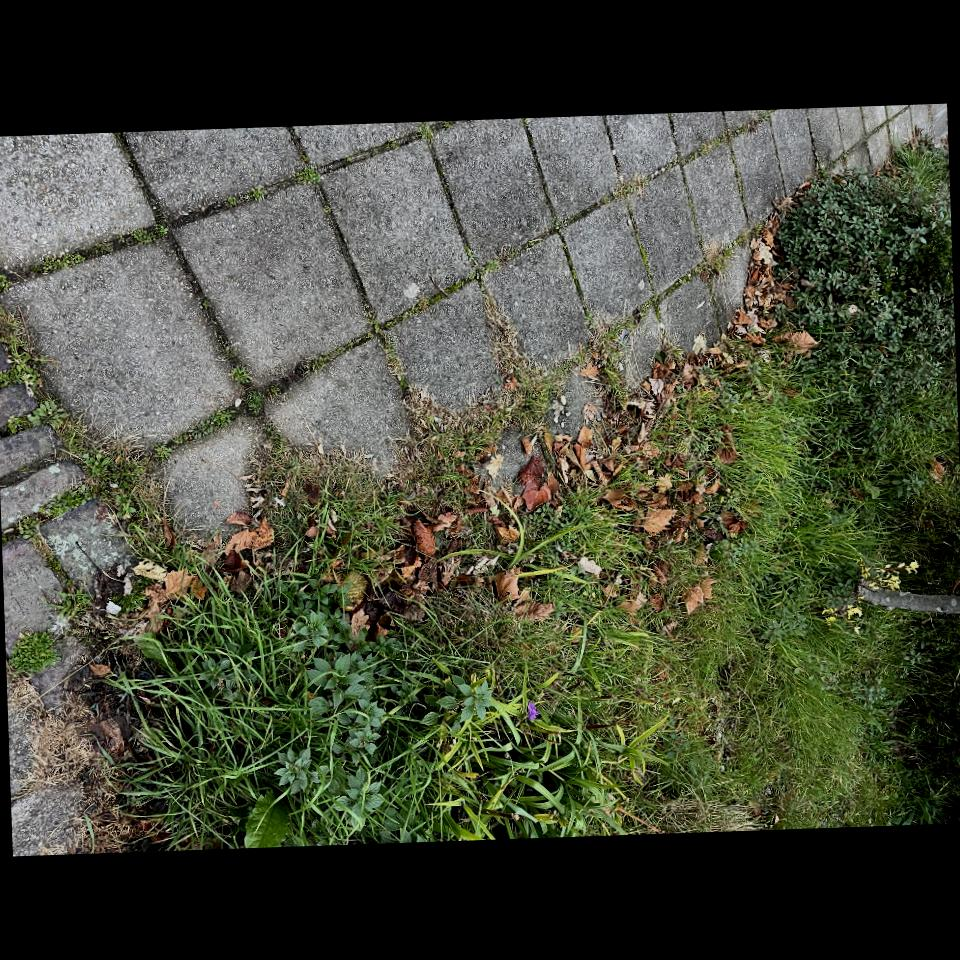weed: (429, 428, 627, 659), (562, 668, 678, 818), (234, 301, 319, 451), (354, 324, 448, 425), (245, 626, 264, 656), (290, 754, 307, 784), (324, 820, 326, 822)
